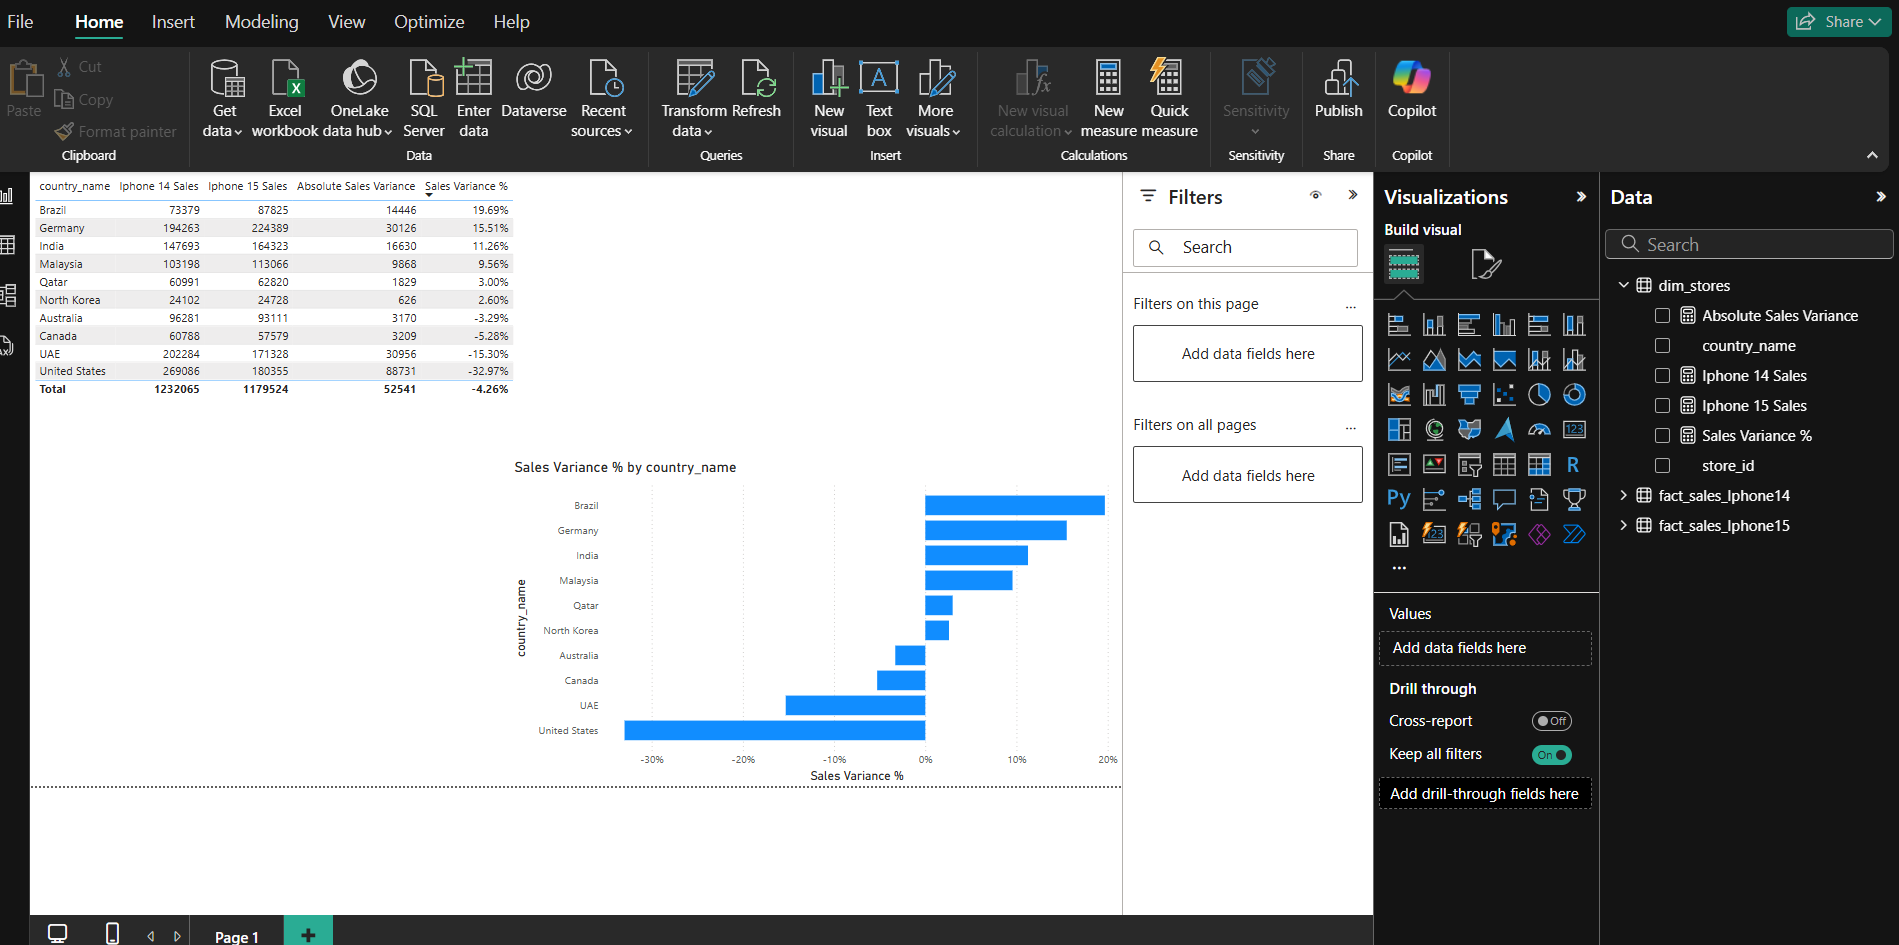

This screenshot's page, from the dashboard's own definition file:
{"tool":"powerbi","page":{"name":"Page 1","canvas":[1280,720],"ordinal":0},"visuals":[{"type":"tableEx","fields":{"Values":["dim_stores.country_name","dim_stores.Iphone 14 Sales","dim_stores.Iphone 15 Sales","dim_stores.Absolute Sales Variance","dim_stores.Sales Variance"]},"box":[0,0,706.7,359.5],"z":0},{"type":"clusteredBarChart","fields":{"Category":["dim_stores.country_name"],"Y":["dim_stores.Sales Variance"]},"box":[562.6,334.8,717.7,385.6],"z":1000}]}

Visuals, with their boxes on the page's 1280x720 design canvas (x1, y1, x2, y2). These are canvas units, not pixel positions in the 1899x945 screenshot, which may show the page scaled, cropped or inside an application window:
tableEx - dim_stores.country_name x dim_stores.Iphone 14 Sales: box(0, 0, 707, 360)
clusteredBarChart - dim_stores.country_name x dim_stores.Sales Variance: box(563, 335, 1280, 720)
